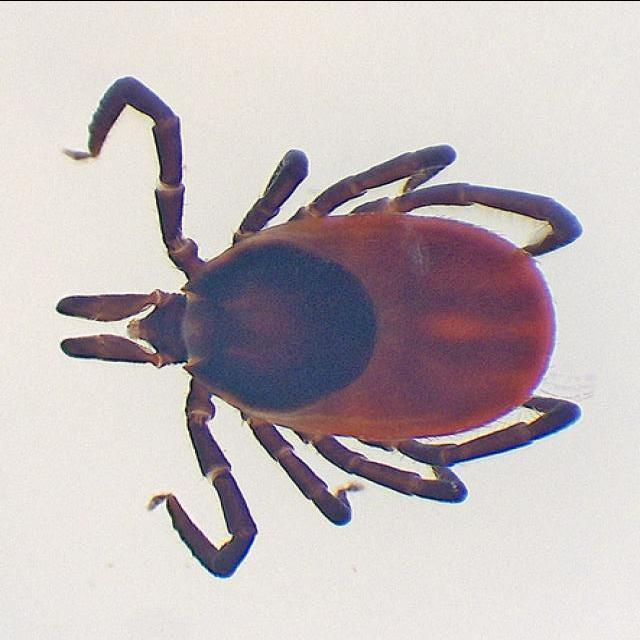Ixodes Ricinus-F: (58, 73, 585, 580)
